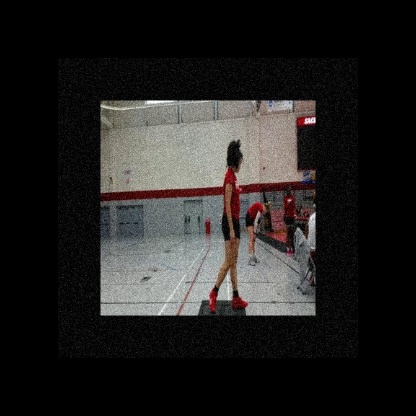lateral_flexion_left: (209, 137, 249, 316)
stance_width_broad: (209, 164, 248, 316)
